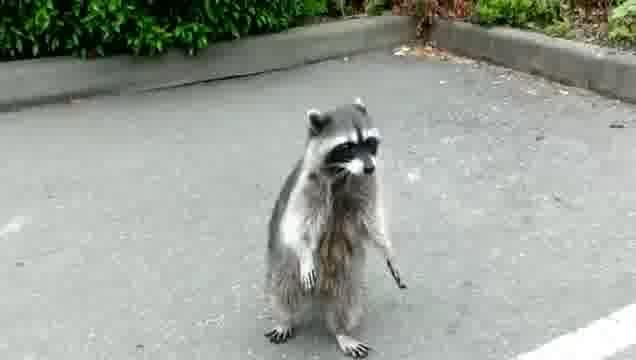raccoon: (264, 94, 410, 360)
